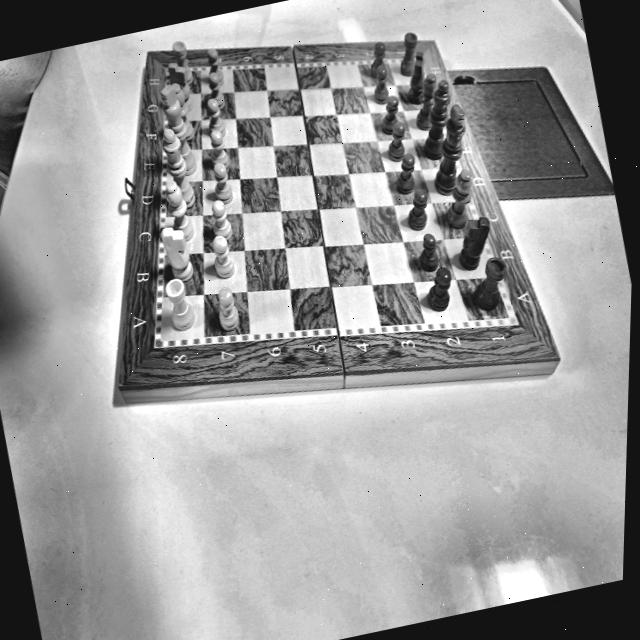black-bishop: (435, 164, 485, 232), (408, 72, 445, 134)
black-king: (417, 100, 481, 198)
black-knight: (450, 213, 500, 272), (400, 51, 434, 104)
black-pawn: (419, 265, 460, 314), (370, 94, 409, 138), (399, 188, 435, 234), (411, 228, 442, 274), (389, 152, 421, 196), (379, 120, 411, 160), (365, 64, 395, 105), (363, 41, 390, 78)
black-queen: (409, 75, 466, 164)
black-rook: (462, 254, 513, 316), (389, 26, 427, 80)
white-bishop: (158, 176, 197, 245), (169, 79, 195, 141)
white-king: (153, 82, 201, 179)
white-knight: (156, 222, 198, 286), (165, 59, 197, 114)
white-pawn: (209, 284, 245, 334), (208, 234, 238, 281), (207, 160, 236, 204), (207, 195, 234, 242), (201, 96, 229, 140), (204, 127, 231, 168), (202, 46, 227, 86), (203, 70, 228, 110)
white-queen: (154, 124, 200, 212)
white-rook: (156, 274, 202, 336), (168, 35, 197, 90)
